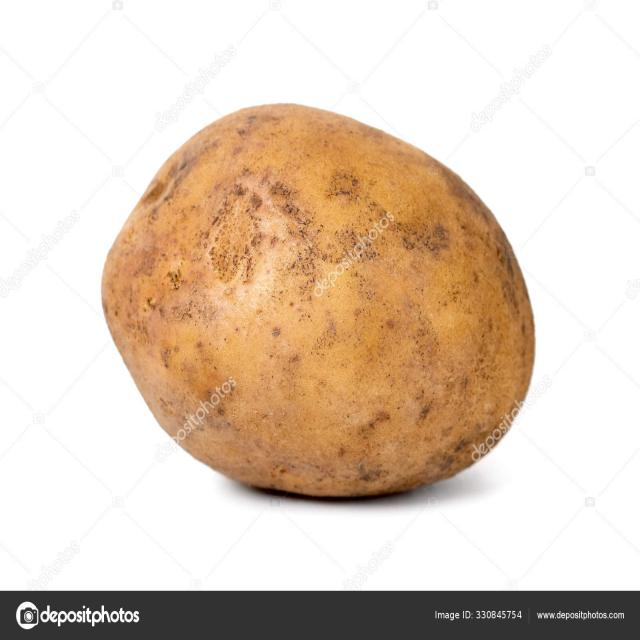potato: (101, 102, 535, 501)
